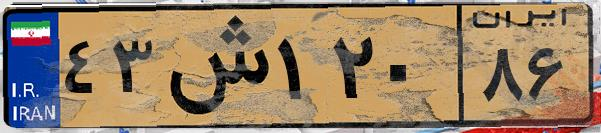0: (385, 28, 445, 110)
1: (270, 28, 330, 110)
2: (330, 28, 385, 110)
3: (110, 28, 158, 98)
4: (57, 26, 110, 100)
6: (525, 38, 570, 115)
8: (475, 38, 525, 113)
ش: (158, 12, 270, 120)
